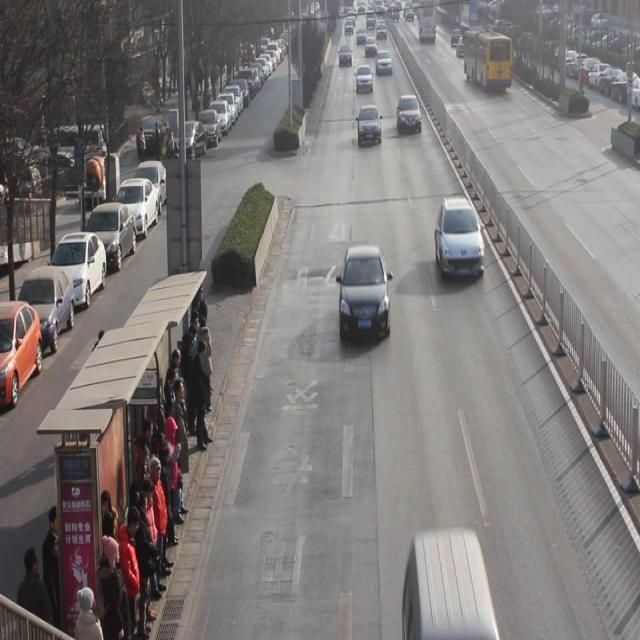car: (339, 245, 392, 344), (437, 197, 486, 284), (397, 94, 422, 137), (358, 105, 383, 147), (356, 64, 373, 95), (376, 50, 394, 77)
van: (461, 30, 511, 91)
